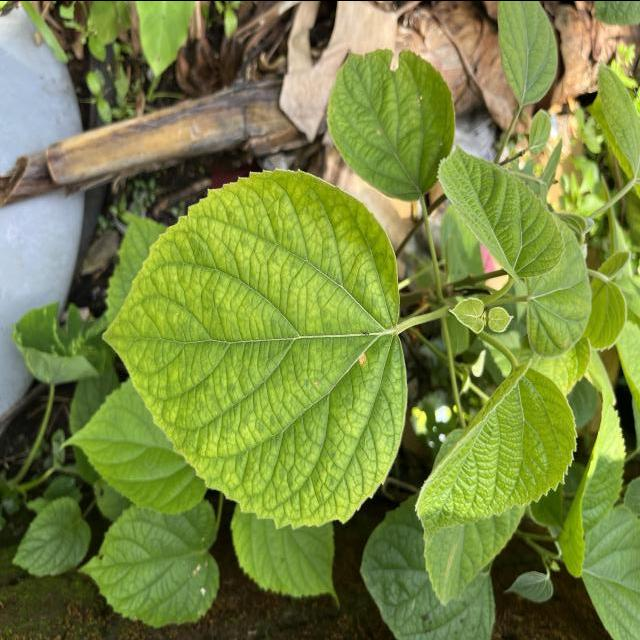Clerodendrum infortunatum: (98, 164, 412, 532), (412, 357, 580, 542), (322, 44, 458, 202), (56, 376, 208, 516), (356, 348, 508, 484), (75, 498, 222, 630), (436, 144, 566, 284), (228, 501, 343, 611)
